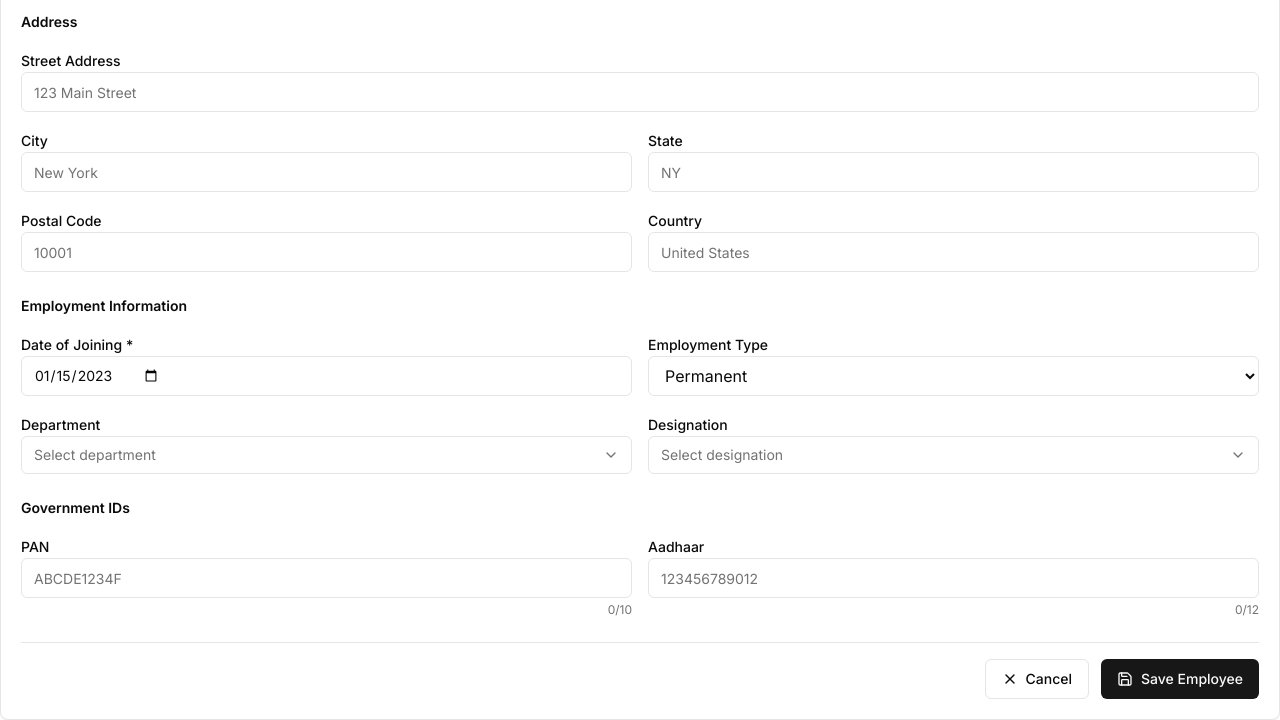
it: EmployeeForm Validation › Required Field Validation › should show error for missing last name
(page scrolled)
Click the button "Save Employee" at (1180, 679), box top-left (1101, 659), bottom-right (1259, 699)
(page scrolled)
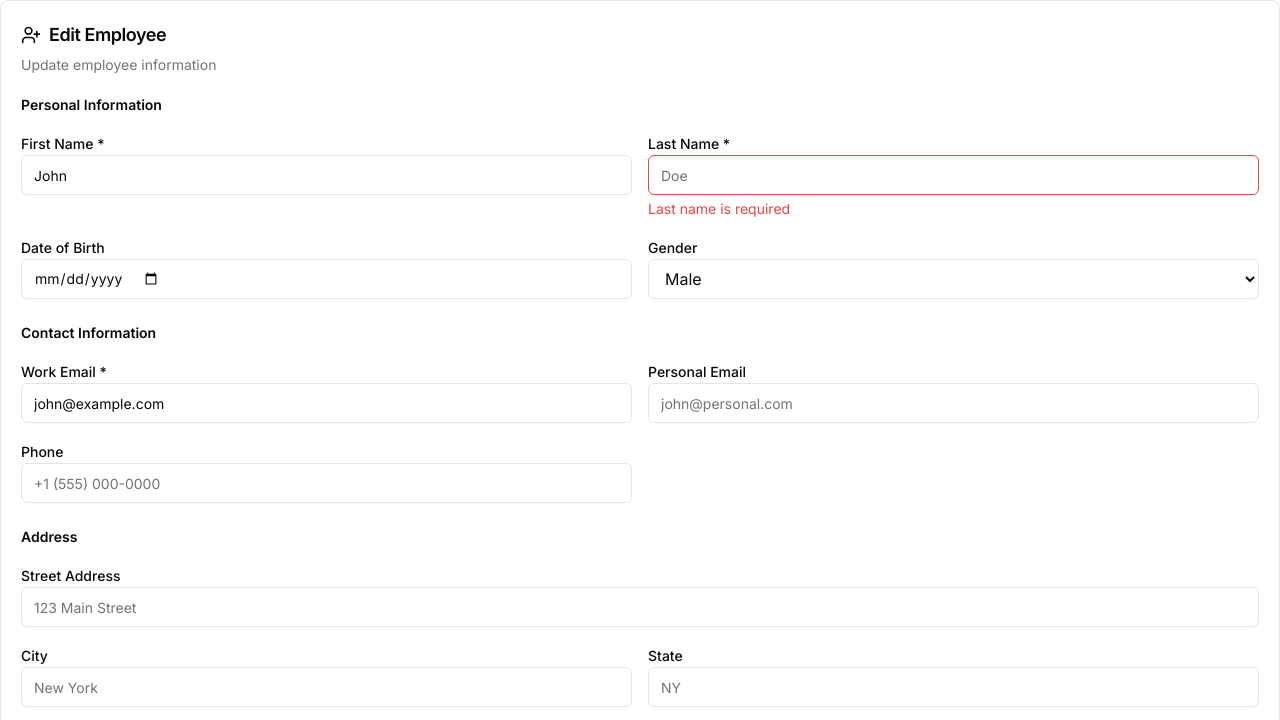
Result: the text "Last name is required" is shown at top-left (648, 200), bottom-right (790, 217)
